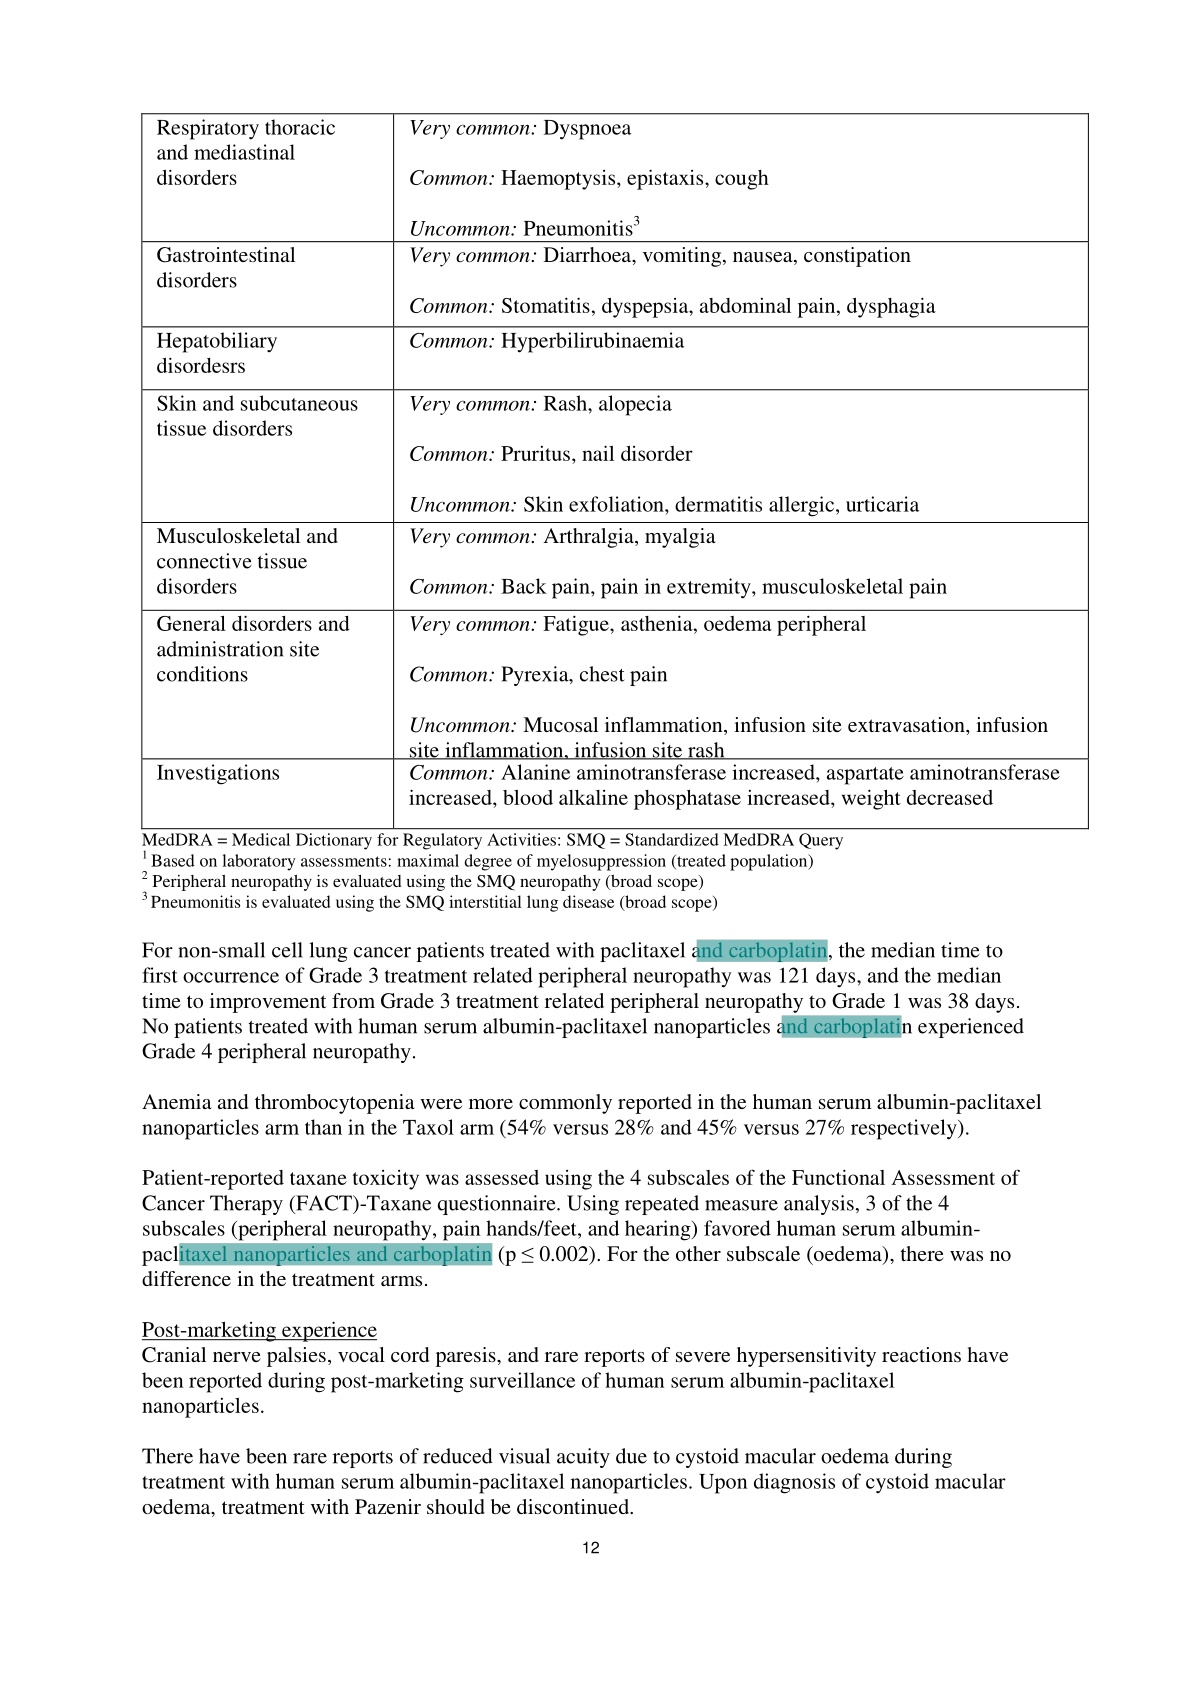full_lined: (140, 113, 1089, 830)
